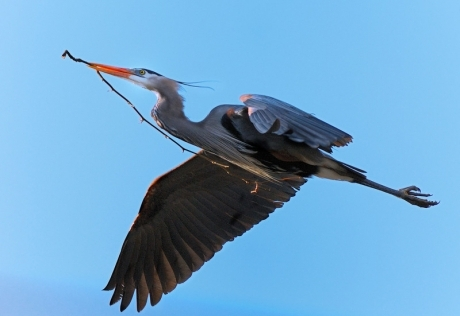heron: (56, 48, 443, 312)
